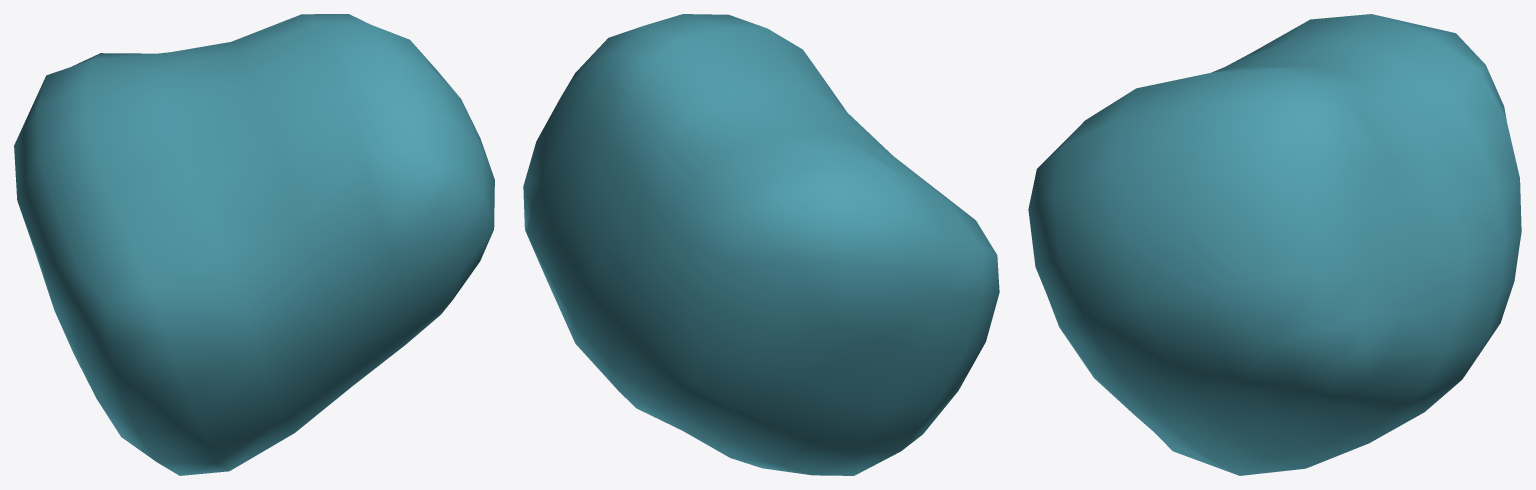
Rendered from VIS_Alpha_Surface_016.dae.
3 renders of one model, left to right at view 1: azimuth 30°, elevation 25°; view 2: azimuth 150°, elevation 25°; view 3: azimuth 270°, elevation 25°, orthographic. The views are drawn at different scales.
Parts seen in each view (by area): view 1: VIS_Alpha_Surface_016; view 2: VIS_Alpha_Surface_016; view 3: VIS_Alpha_Surface_016.
Part boxes in pixels (x1,y1,x2,y2): VIS_Alpha_Surface_016: [14, 14, 494, 475]; VIS_Alpha_Surface_016: [523, 14, 999, 475]; VIS_Alpha_Surface_016: [1028, 14, 1521, 475].
Size of the model in its own units: 4.73 by 4.26 by 4.37.
